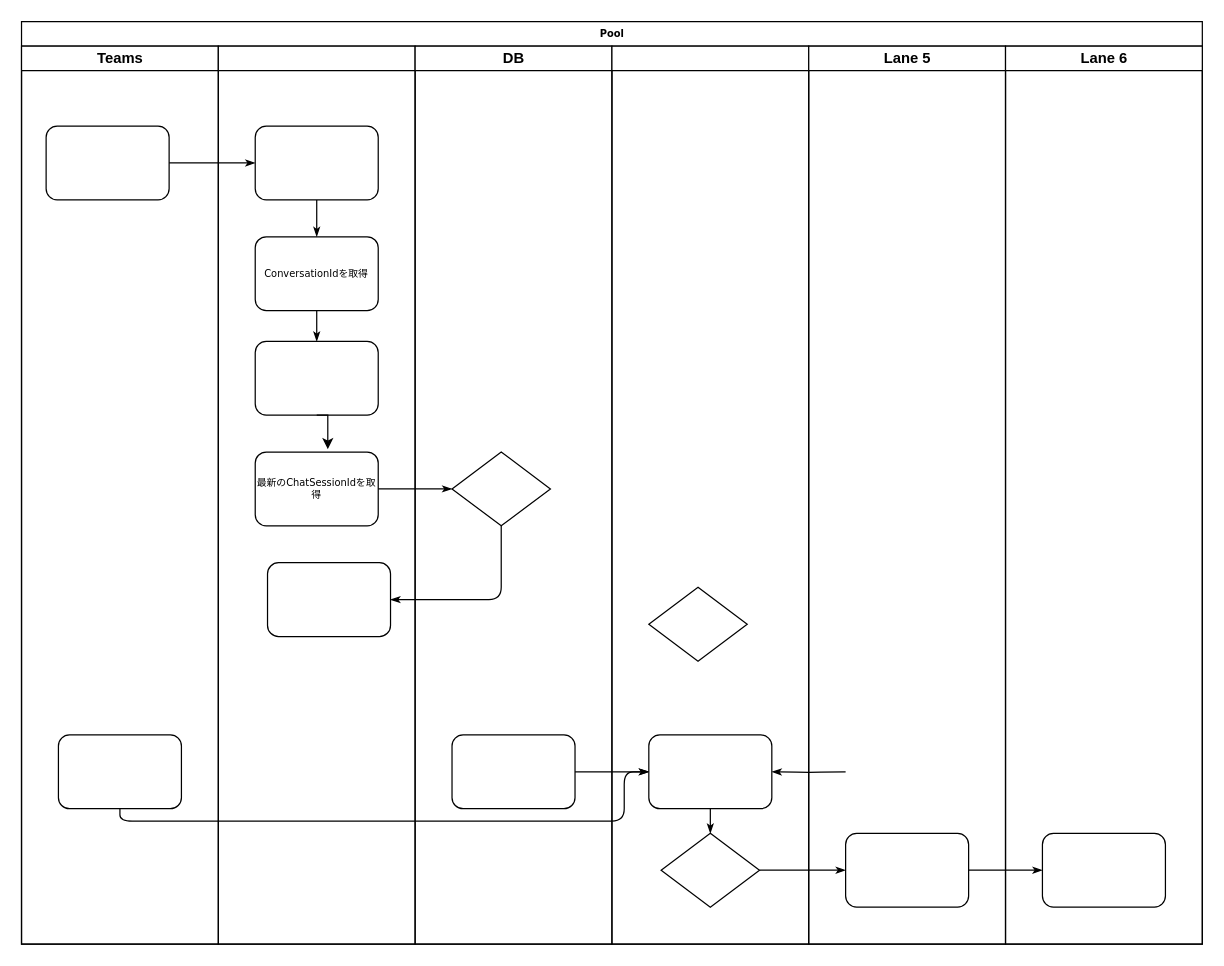
This 1224x966 diagram has some shape labels left out. The shapes that lost their labels are listed below. From the top down, each one's box as (x1, y1, x2, y2) in pixels, then its label:
(254, 125, 378, 200): 質問から不要な文字を削除
(254, 340, 378, 415): ユーザーのEmailを取得
(217, 45, 415, 944): Controller
(611, 45, 809, 944): Lane 4
